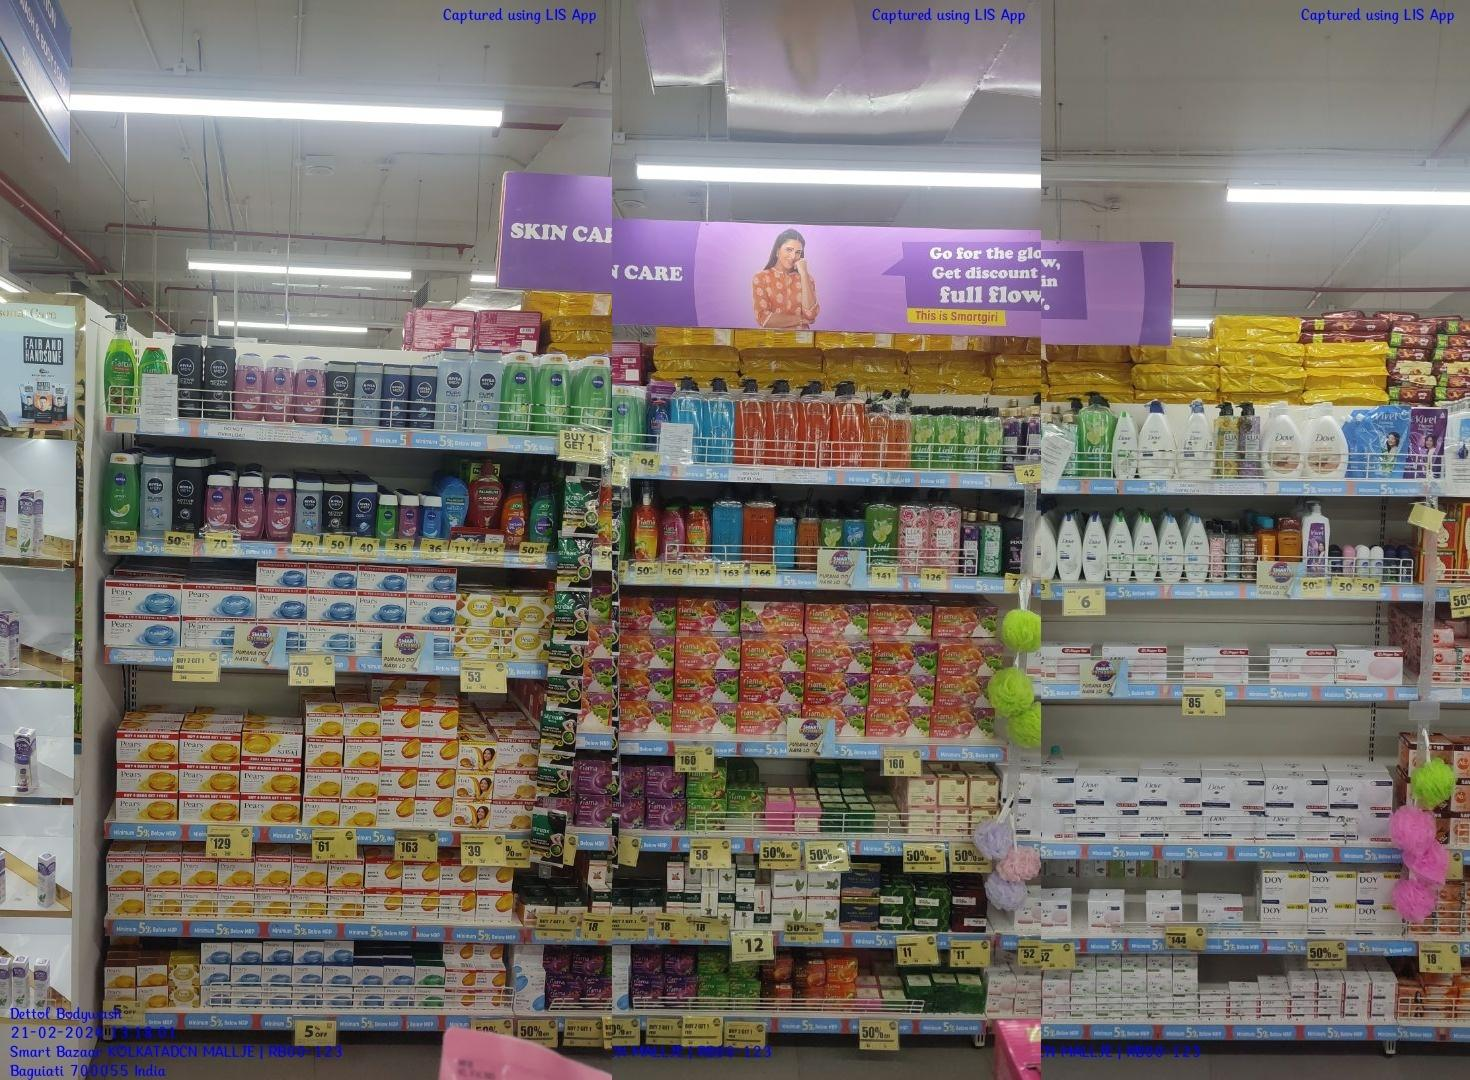Dove_Deep_Moisture_Body_Wash_250ML: (1083, 513, 1106, 581), (1058, 515, 1081, 581)
Dove_Gentle_Exfoliating_Body_Wash_250ML: (1186, 516, 1210, 583), (1160, 516, 1184, 582)
Dove_Refreshing_Body_Wash_250ML: (1107, 510, 1132, 585), (1112, 411, 1138, 479), (1134, 514, 1158, 586)
Fiama_Shower_Gel_Patchouli_and_Macadamia_250ML: (660, 506, 685, 559)
Get_Real_Shower_Gel_Moisturising_Glycerin_300ML: (1278, 521, 1301, 562)
Joy_Shower_Gel_Mint_and_Eucalyptus_250ML: (531, 483, 556, 542), (504, 484, 526, 543)
Liril_Cooling_Mint_Body_Wash_250ML: (846, 509, 865, 550)
Liril_Lime_and_Tea_Tree_Oil_Body_Wash_250ML: (913, 404, 935, 468), (982, 408, 1003, 472), (936, 405, 956, 470), (959, 408, 979, 470), (821, 508, 842, 550)
Lux_Black_Orchid_Scent_and_Juniper_Oil_Body_Wash_245ML: (962, 511, 980, 573), (1004, 408, 1020, 465), (1026, 405, 1041, 464)
Lux_Body_Wash_Skin_Detox_Freesia_Scent_and_Alove_Vera_245ML: (982, 511, 1001, 577)
Nivea_Shower_Gel_Lemon_and_Oil_250ML: (576, 355, 613, 429), (535, 355, 571, 430), (503, 354, 532, 434), (614, 387, 636, 451)
Nivea_Shower_Gel_Waterlily_and_Oil_250ML: (105, 452, 139, 529), (265, 357, 294, 421), (296, 355, 324, 421), (235, 353, 262, 420), (237, 477, 265, 533), (267, 478, 293, 533), (207, 477, 234, 530)
Palmolive_Aroma_Moments_Feel_The_Massage_Shower_Gel_250ML: (443, 481, 469, 526)
Pears_Pure_Glycerin_and_Mint_Extracts_Body_Wash_250ML: (774, 510, 794, 569)
